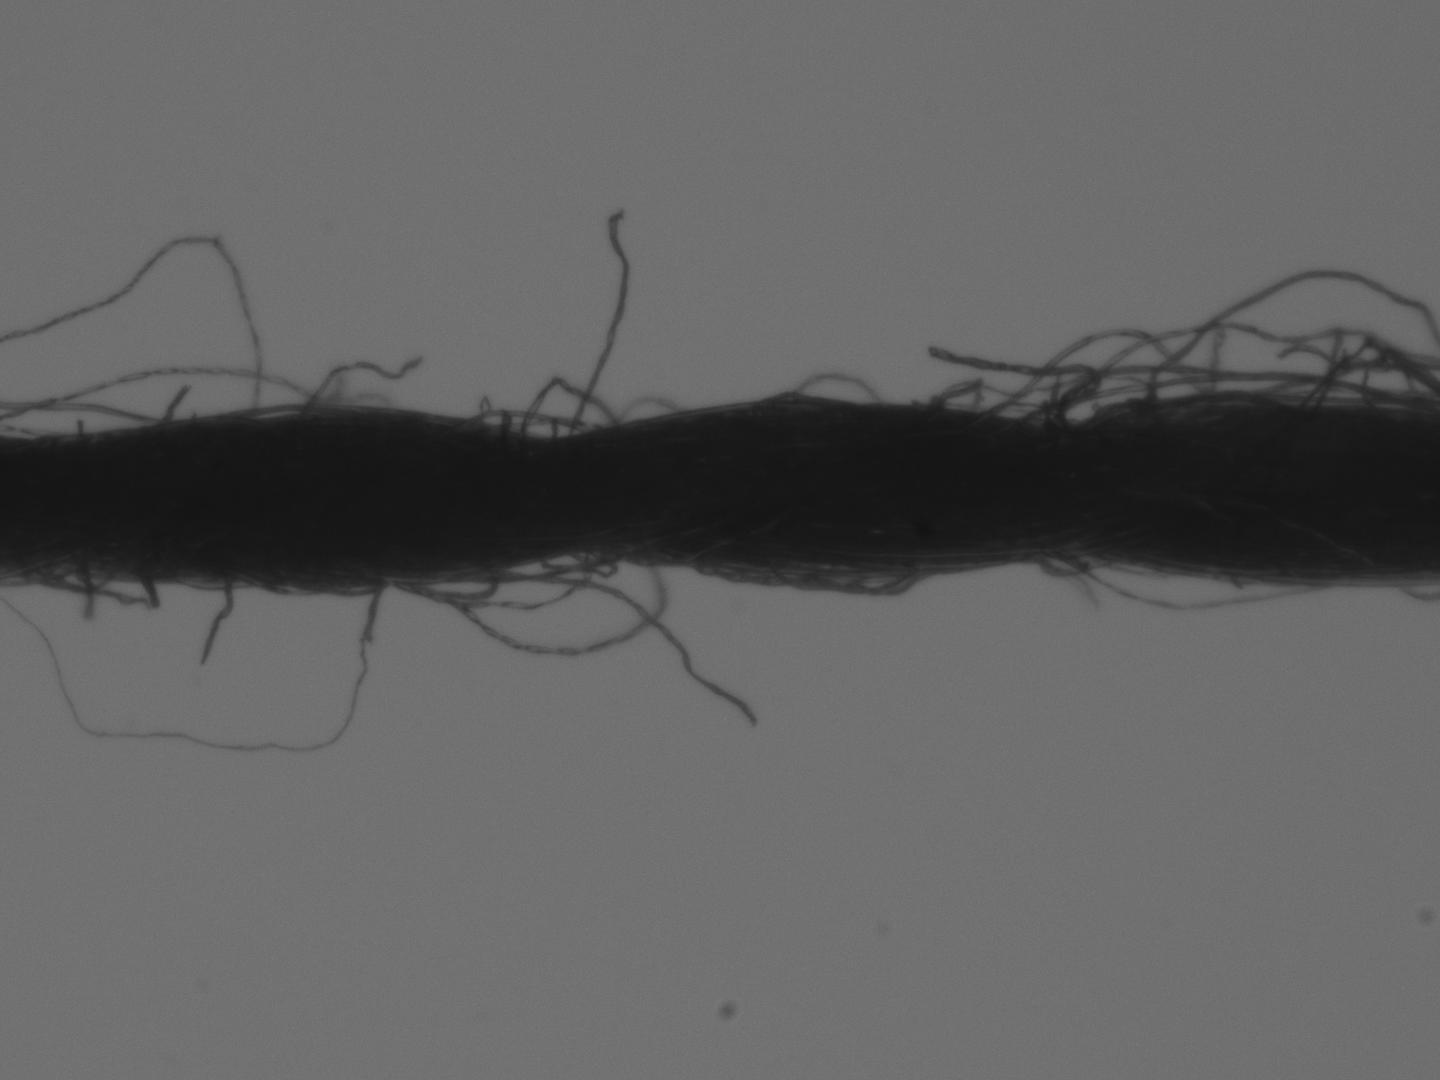loop_fiber: (1035, 322, 1431, 421), (398, 552, 653, 661), (2, 366, 315, 444), (979, 328, 1212, 420), (1037, 369, 1391, 422), (686, 540, 929, 605), (14, 552, 167, 614), (514, 369, 621, 446), (369, 549, 502, 606), (1277, 363, 1439, 405), (755, 370, 895, 414), (534, 529, 626, 582), (1010, 542, 1123, 580)
protruding_fiber: (564, 197, 630, 449), (197, 583, 229, 663)
